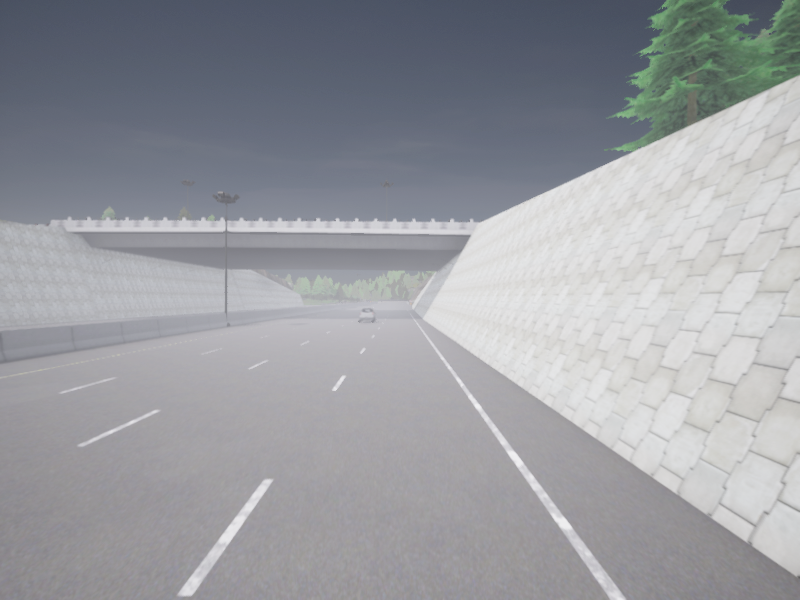vehicle: (359, 308, 376, 321)
